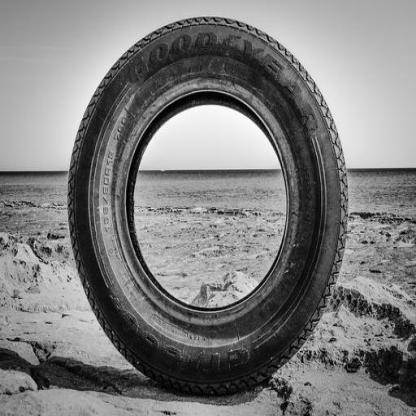Tire: (65, 16, 350, 398)
